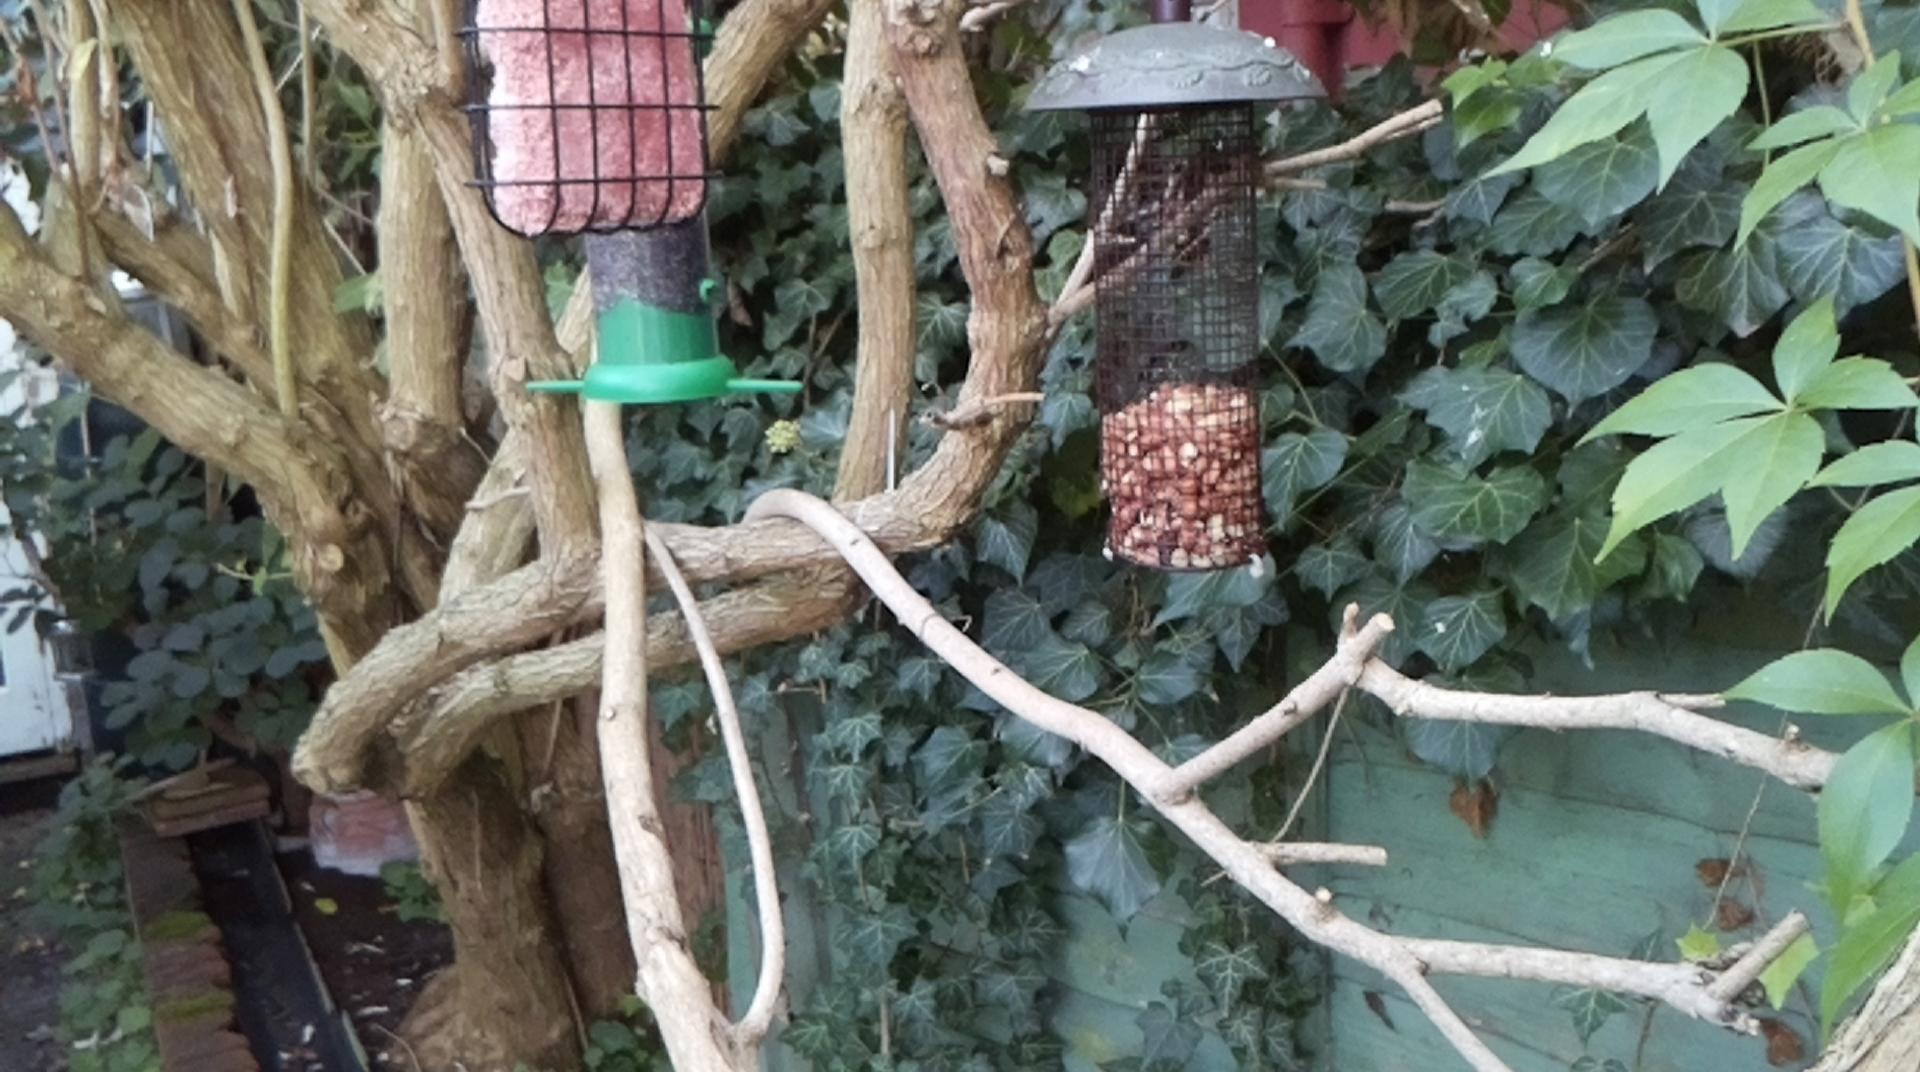unclassified: (94, 91, 237, 403)
